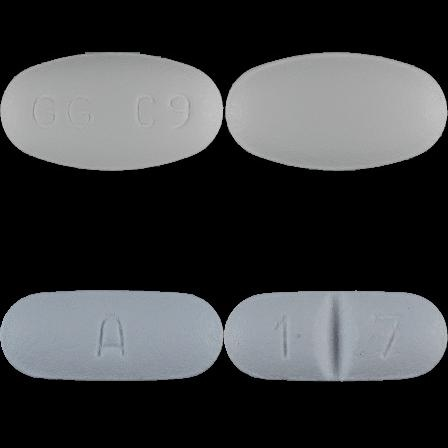68788-6425: (0, 0, 224, 224)
